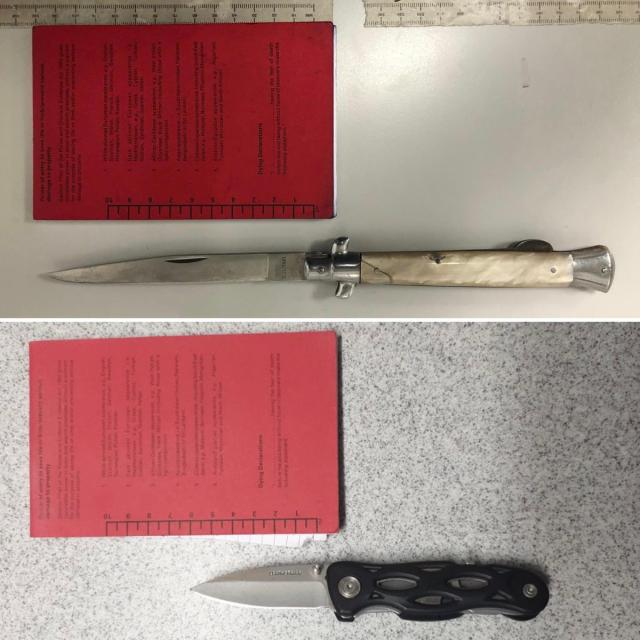Sharp-Object: (46, 246, 614, 295), (192, 562, 548, 623)
